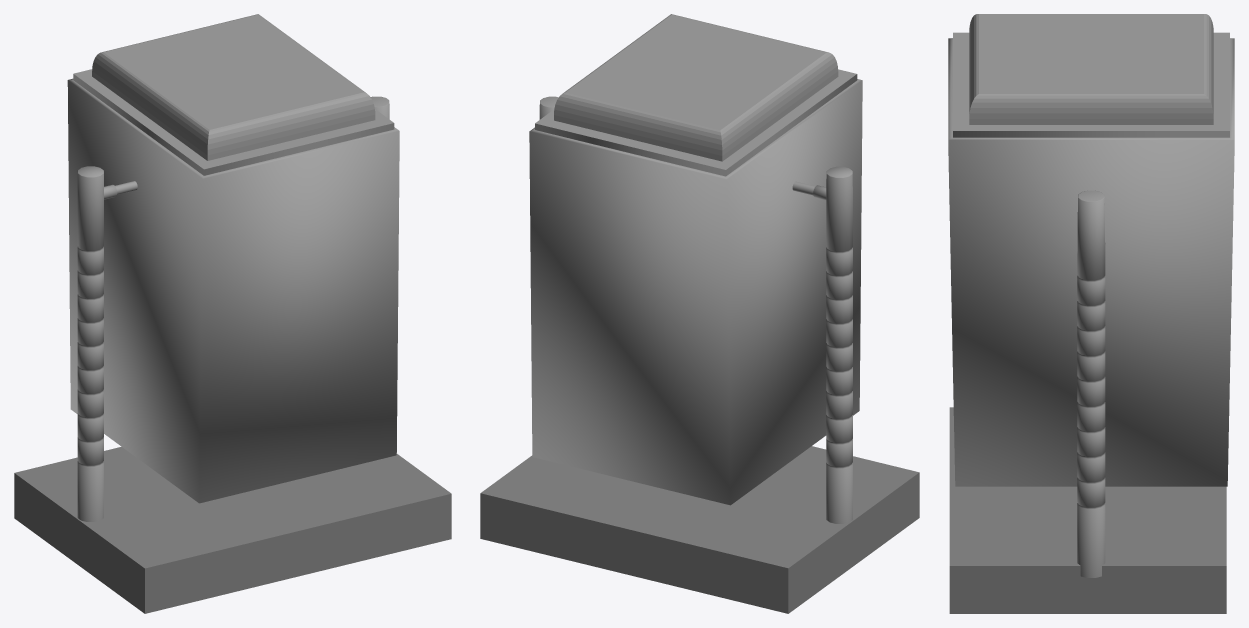
Rendered from Mail Box.fbx.
3 views of the same model, side by side, from view 1: azimuth 30°, elevation 25°; view 2: azimuth 150°, elevation 25°; view 3: azimuth 270°, elevation 25° (orthographic). The views are drawn at different scales.
Parts seen in each view (by area): view 1: Trashcan_LP; view 2: Trashcan_LP; view 3: Trashcan_LP.
Part boxes in pixels (x1,y1,x2,y2): Trashcan_LP: (14,14,451,613); Trashcan_LP: (480,14,919,613); Trashcan_LP: (948,14,1234,613).
Bounding box in the file's own units: 176 × 233 × 326.
